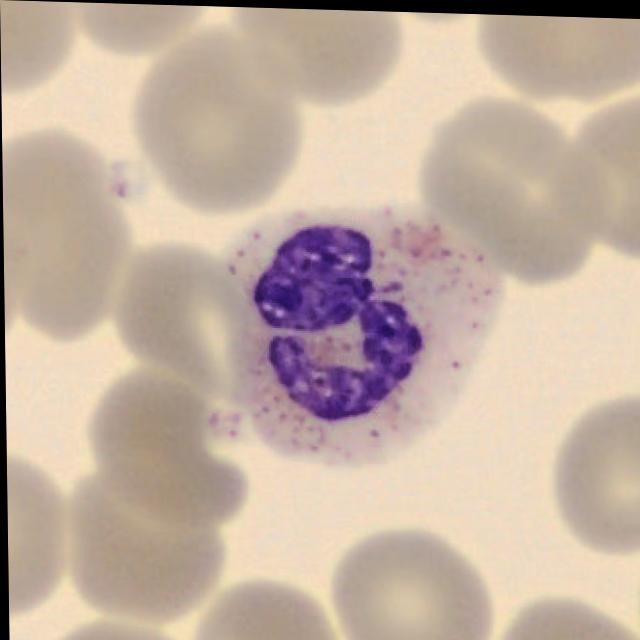Neutrofilo segmentado: (196, 202, 505, 466)
